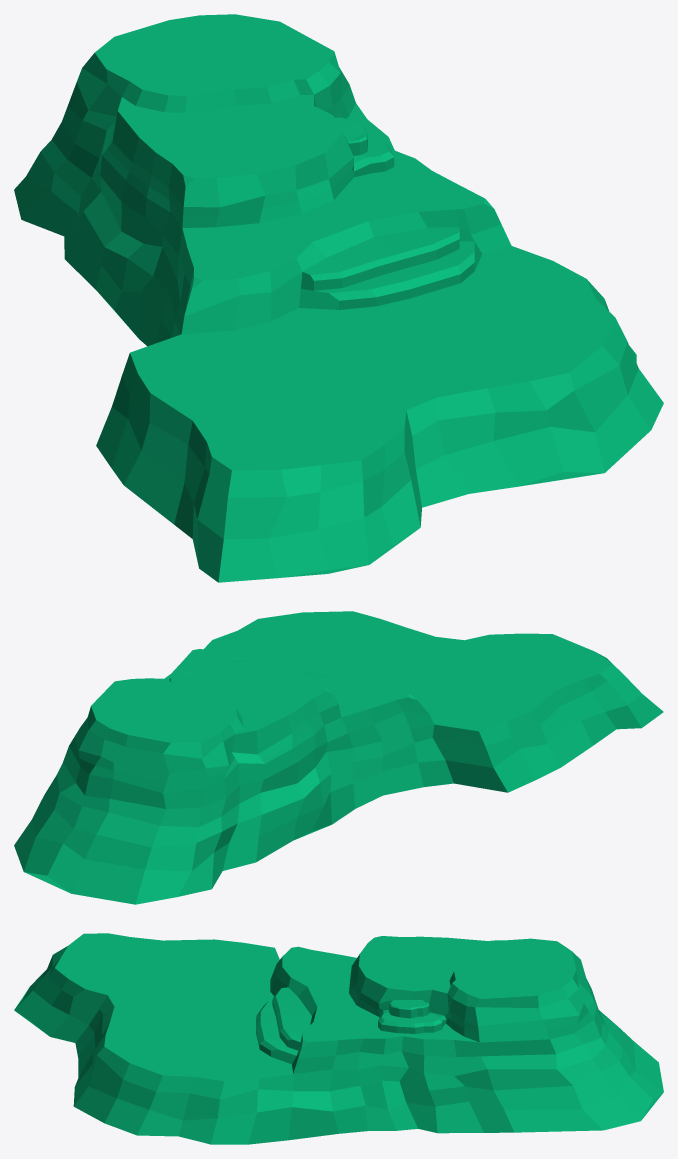
File: main.glb
3 renders of one model, top to bottom at view 1: azimuth 30°, elevation 25°; view 2: azimuth 150°, elevation 25°; view 3: azimuth 270°, elevation 25°, orthographic. The views are drawn at different scales.
Parts seen in each view (by area): view 1: Plane; view 2: Plane; view 3: Plane.
Part boxes in pixels (x1,y1,x2,y2): Plane: (14, 14, 663, 582); Plane: (14, 611, 663, 904); Plane: (14, 933, 663, 1144).
Size of what is drawn, in the model's own units: 47.5 by 15.36 by 74.99.
